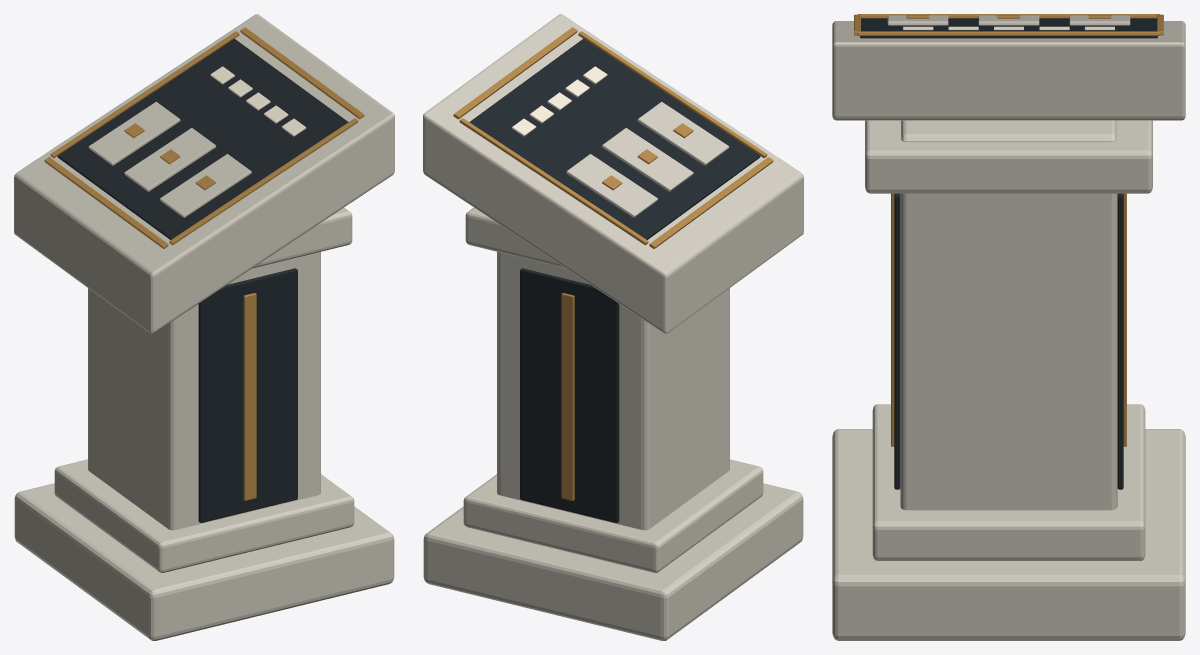
The model's file is SM_Aurelion_KIT_RequestConsole.fbx.
3 views of the same model, side by side, from view 1: azimuth 30°, elevation 25°; view 2: azimuth 150°, elevation 25°; view 3: azimuth 270°, elevation 25° (orthographic). The views are drawn at different scales.
Parts seen in each view (by area): view 1: SM_Aurelion_KIT_RequestConsole; view 2: SM_Aurelion_KIT_RequestConsole; view 3: SM_Aurelion_KIT_RequestConsole.
Boxes of the visible parts, x1,y1,x2,y2 form: SM_Aurelion_KIT_RequestConsole: (14, 14, 394, 640); SM_Aurelion_KIT_RequestConsole: (423, 14, 803, 640); SM_Aurelion_KIT_RequestConsole: (832, 14, 1185, 640).
Bounding box in the file's own units: 50 × 49 × 91.79.
